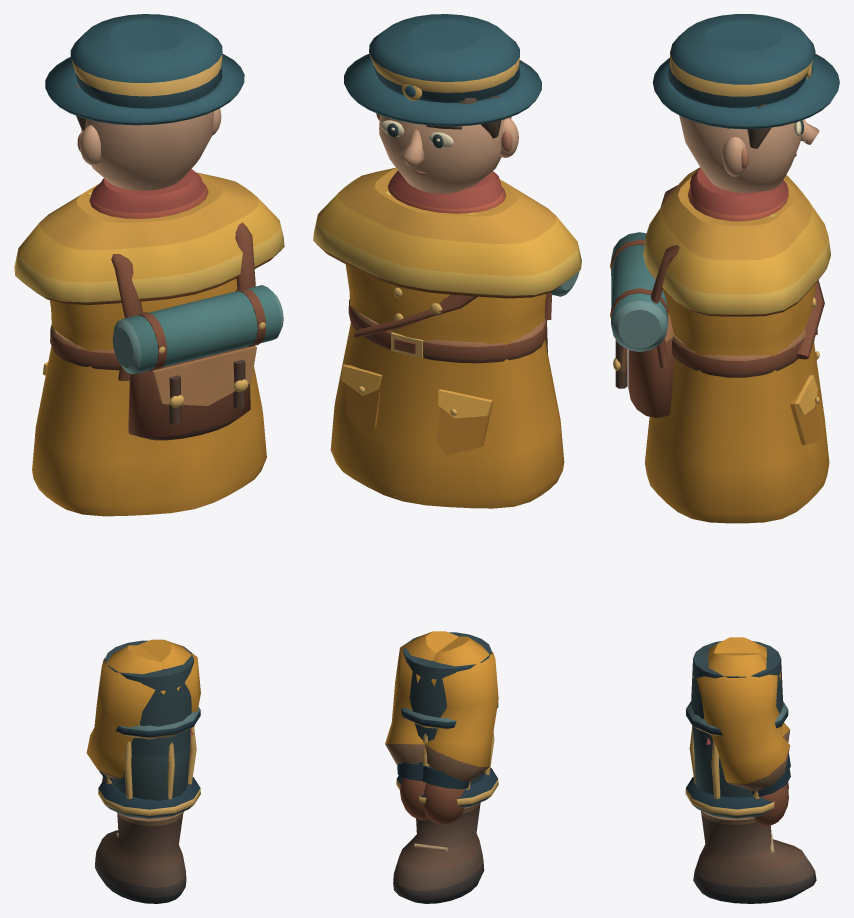
File: keeper.glb
3 views of the same model, side by side, from view 1: azimuth 30°, elevation 25°; view 2: azimuth 150°, elevation 25°; view 3: azimuth 270°, elevation 25° (orthographic).
Parts seen in each view (by area): view 1: KeeperBody, LeftBoot, LeftSleeve, LampCage, RightSleeve; view 2: KeeperBody, LeftBoot, LeftSleeve, RightSleeve, LampCage; view 3: KeeperBody, LeftBoot, RightSleeve, LampCage, LeftSleeve.
Boxes of the visible parts, x1=… form: KeeperBody: x1=14, y1=14, x2=284, y2=516; LeftBoot: x1=95, y1=640, x2=193, y2=903; LeftSleeve: x1=86, y1=645, x2=165, y2=782; LampCage: x1=98, y1=707, x2=200, y2=818; RightSleeve: x1=138, y1=639, x2=200, y2=726; KeeperBody: x1=313, y1=14, x2=581, y2=508; LeftBoot: x1=393, y1=632, x2=491, y2=903; LeftSleeve: x1=420, y1=636, x2=498, y2=824; RightSleeve: x1=385, y1=631, x2=458, y2=820; LampCage: x1=396, y1=702, x2=498, y2=807; KeeperBody: x1=610, y1=14, x2=839, y2=523; LeftBoot: x1=691, y1=641, x2=816, y2=903; RightSleeve: x1=693, y1=653, x2=790, y2=826; LampCage: x1=685, y1=701, x2=788, y2=818; LeftSleeve: x1=708, y1=637, x2=790, y2=789.
Size of the model in its own units: 0.8222 by 2.76 by 0.673.
Materials: 1 (1 with a texture image).
